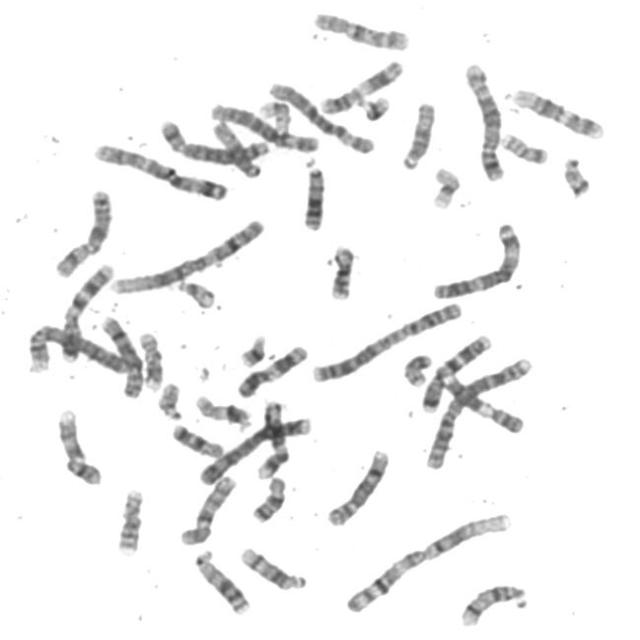A1: (339, 506, 516, 616), (106, 212, 269, 295)
A2: (420, 351, 537, 472), (306, 296, 466, 383)
A3: (89, 136, 232, 202), (428, 215, 527, 300)
B4: (193, 409, 315, 486), (22, 318, 135, 377)
B5: (155, 113, 269, 170), (460, 56, 509, 184)
C10: (176, 469, 240, 547), (308, 5, 414, 52)
C11: (316, 52, 406, 116), (232, 338, 312, 399)
C12: (509, 82, 608, 141), (251, 395, 292, 480)
C6: (264, 75, 378, 156), (206, 97, 324, 154)
C7: (416, 328, 496, 413), (56, 257, 118, 363)
C8: (322, 443, 393, 527), (97, 310, 147, 400)
C9: (438, 368, 527, 434), (52, 403, 106, 487)
D13: (190, 544, 253, 616), (298, 152, 328, 232)
D14: (456, 579, 532, 629), (236, 541, 310, 592)
D15: (207, 114, 265, 180), (396, 95, 439, 171)
E16: (112, 483, 148, 556), (324, 238, 359, 302)
E17: (190, 388, 254, 429), (134, 326, 168, 392)
E18: (168, 418, 228, 460), (247, 470, 290, 523)
F19: (427, 160, 464, 210), (253, 101, 296, 142)
F20: (495, 126, 551, 165), (398, 348, 436, 388)
G21: (235, 328, 270, 368), (356, 89, 393, 122)
G22: (170, 273, 219, 310), (153, 376, 185, 421)
X: (50, 182, 116, 279)
Y: (559, 158, 591, 200)
